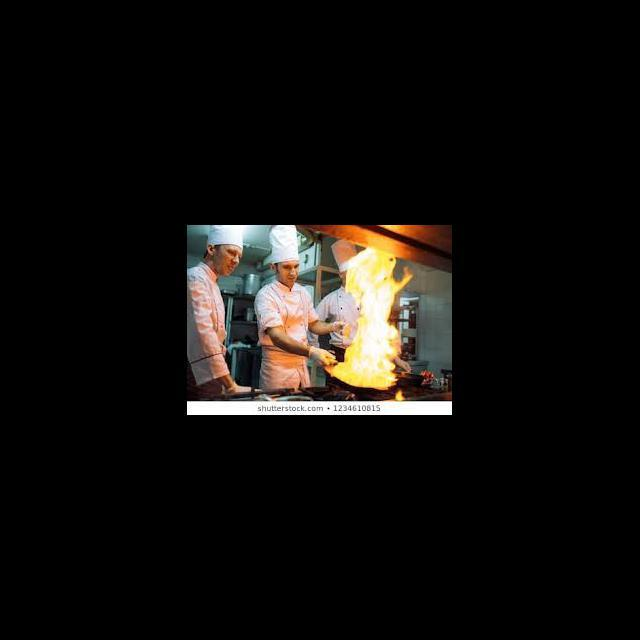Fire: (328, 234, 412, 393)
